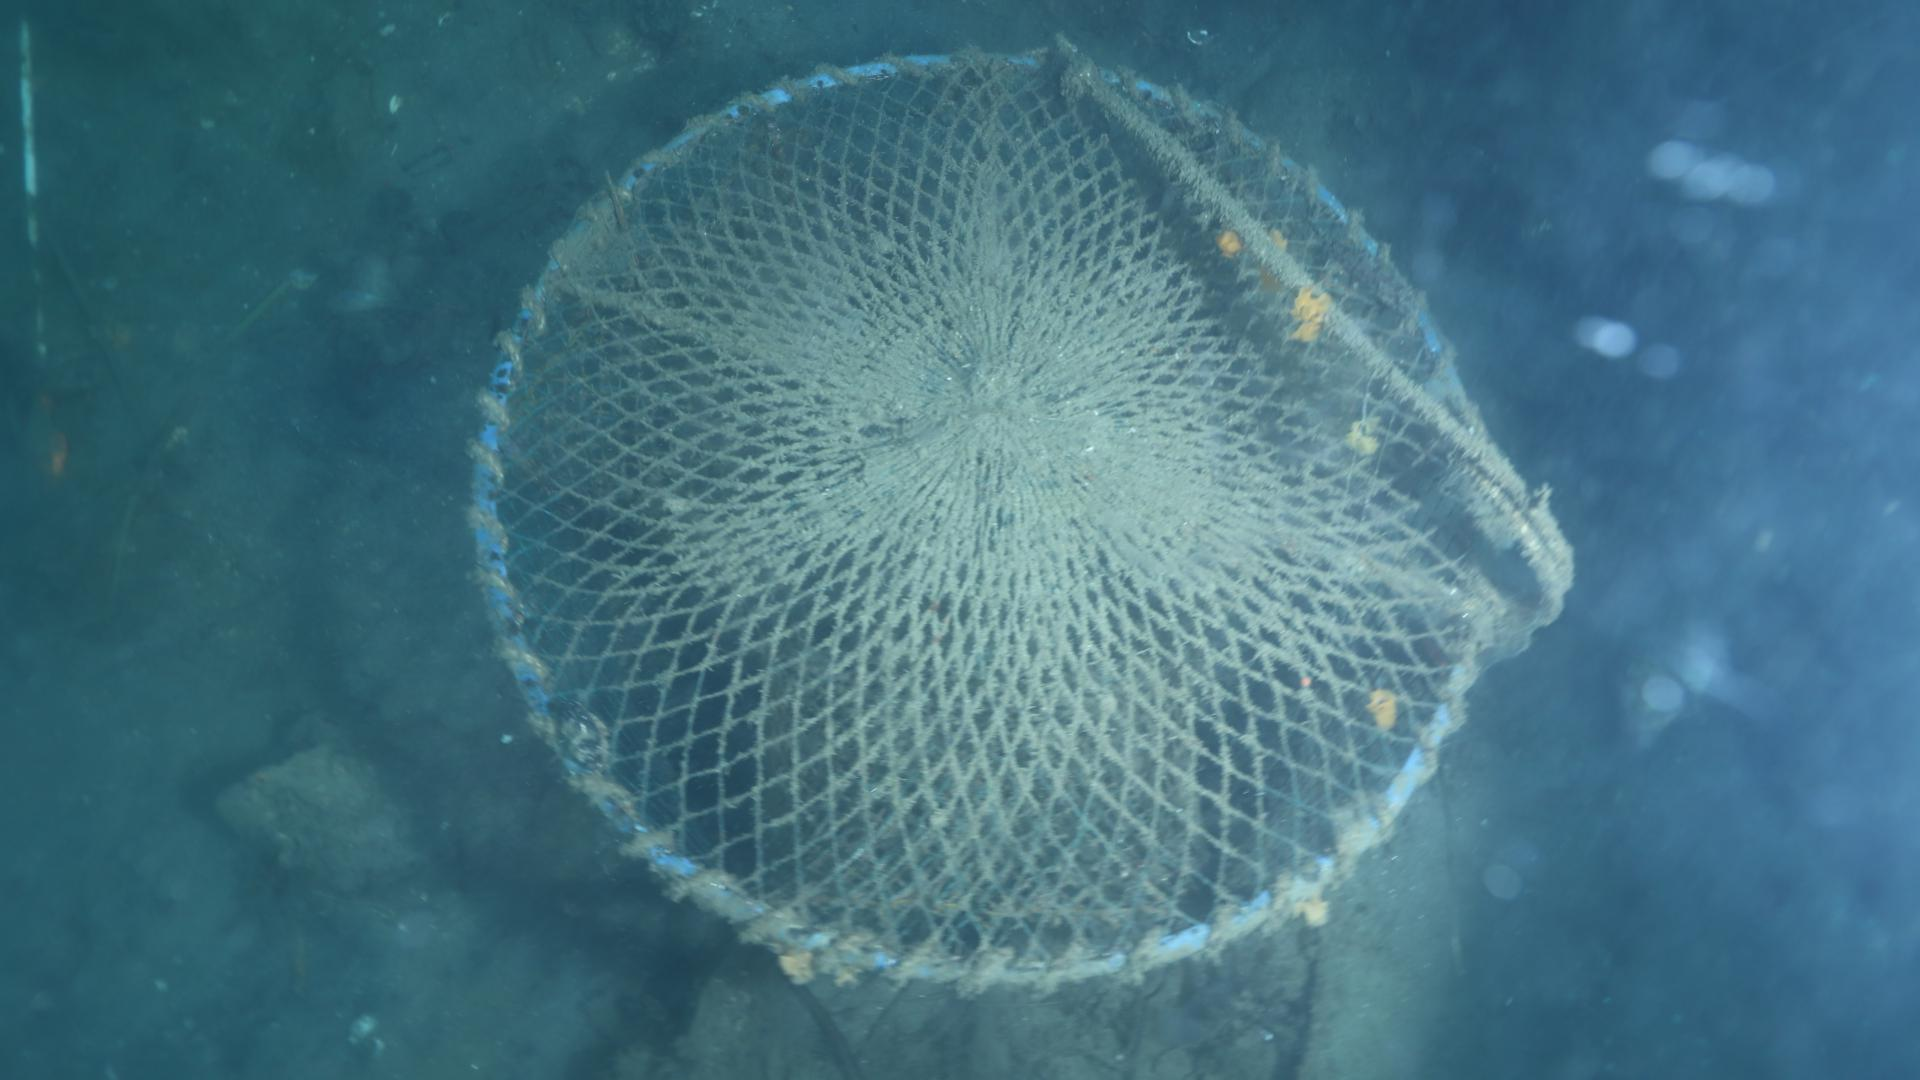circular fish trap: (458, 40, 1497, 1010)
